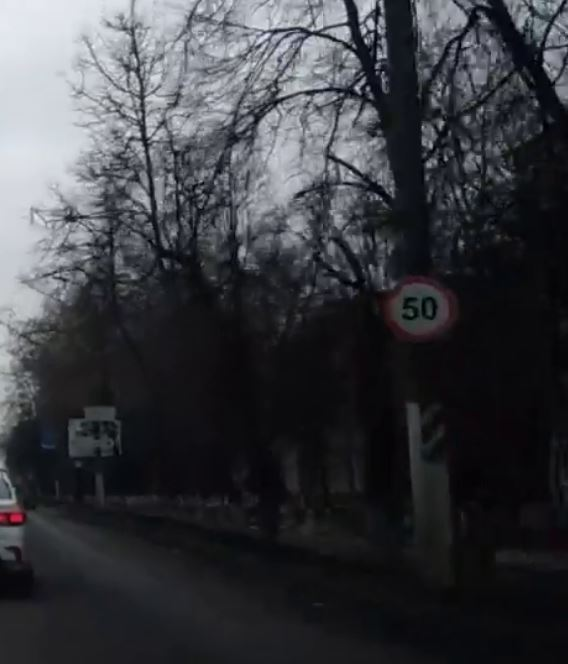50 Km Hiz Siniri: (388, 278, 458, 344)
